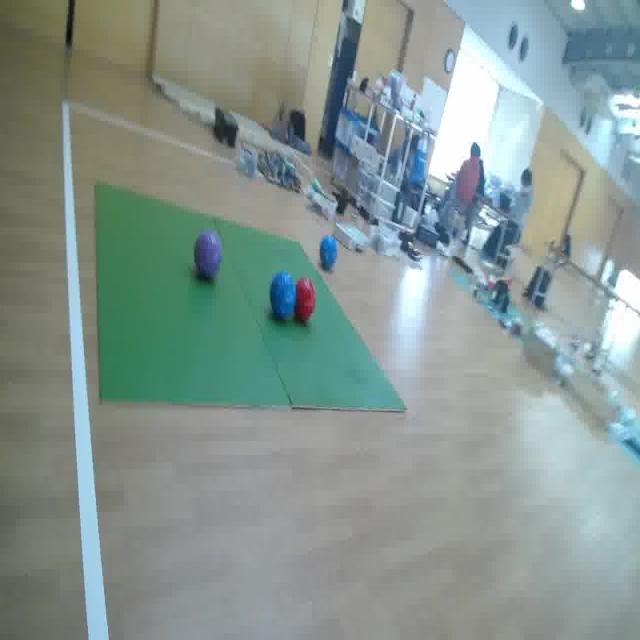blue_ball: (269, 272, 298, 324), (319, 232, 339, 270)
purple_ball: (191, 227, 224, 283)
red_ball: (294, 275, 317, 326)
